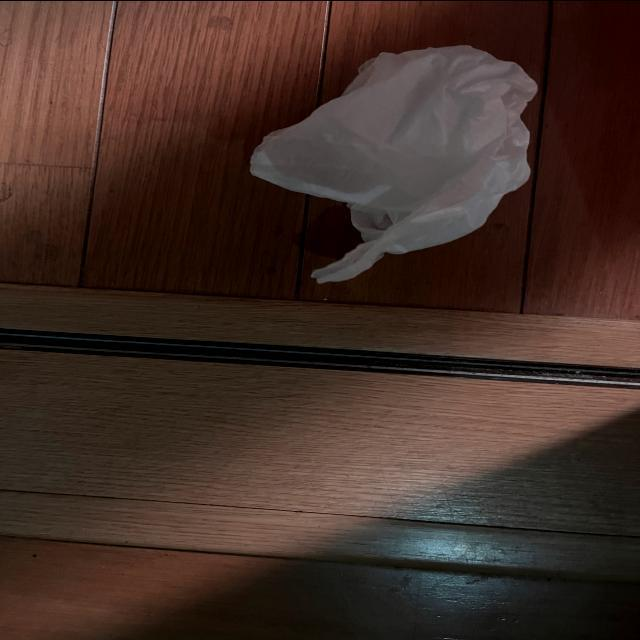Paper: (237, 29, 545, 285)
